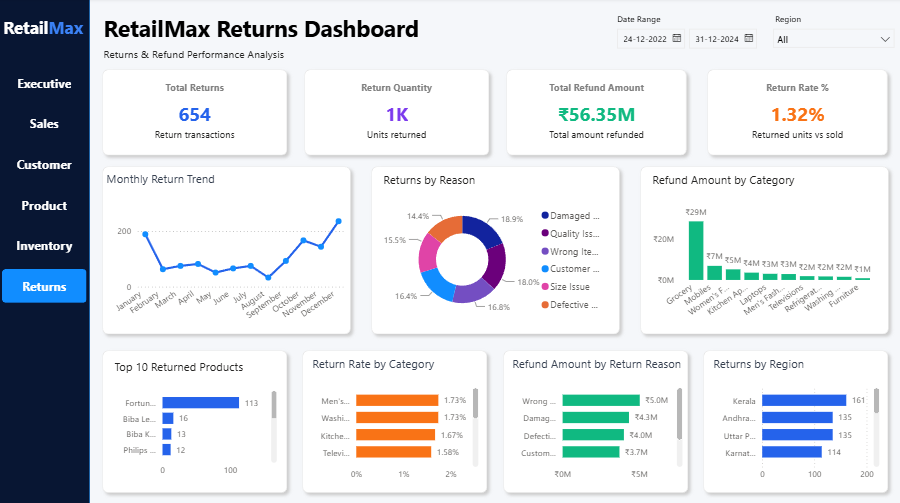

What the dashboard file says about the page in this screenshot:
{"tool":"powerbi","page":{"name":"Returns Dashboard","canvas":[1280,720],"ordinal":5},"visuals":[{"type":"shape","box":[0,0,130,720],"z":0,"group":"g7"},{"type":"shape","box":[425,92,280,140],"z":0,"group":"g1"},{"type":"shape","box":[711,92,273.4,140],"z":0,"group":"g2"},{"type":"shape","box":[997,92,273.4,140],"z":0,"group":"g3"},{"type":"textbox","box":[160,176,144,64],"z":0},{"type":"shape","box":[139,230,370,256],"z":0,"group":"g4"},{"type":"shape","box":[520.5,230,370,256],"z":0,"group":"g5"},{"type":"shape","box":[902,230,370,256],"z":0,"group":"g6"},{"type":"shape","box":[139,92,280,140],"z":1000},{"type":"cardVisual","title":"sales","fields":{"Data":["Measure.Return Quantity"]},"box":[445,127,240,70],"z":1000,"group":"g1"},{"type":"cardVisual","title":"sales","fields":{"Data":["Measure.Total Refund Amount"]},"box":[730.5,127,234.4,70],"z":1000,"group":"g2"},{"type":"cardVisual","title":"sales","fields":{"Data":["Measure.Return Rate %"]},"box":[1016.5,127,234.4,70],"z":1000,"group":"g3"},{"type":"lineChart","title":"Monthly Return Trend","fields":{"Y":["Measure.Return Quantity"],"Category":["dim_date.month_name"]},"box":[149.6,246,348.9,224],"z":1000,"group":"g4"},{"type":"textbox","box":[445,112.8,240,35],"z":2000,"group":"g1"},{"type":"textbox","box":[730.5,112.8,234.4,35],"z":2000,"group":"g2"},{"type":"textbox","box":[1016.5,112.8,234.4,35],"z":2000,"group":"g3"},{"type":"cardVisual","title":"sales","fields":{"Data":["Measure.Total Returns"]},"box":[159,127,240,70],"z":2000},{"type":"textbox","box":[445,179.5,240,35],"z":3000,"group":"g1"},{"type":"textbox","box":[730.5,179.5,234.4,35],"z":3000,"group":"g2"},{"type":"textbox","box":[1016.5,179.5,234.4,35],"z":3000,"group":"g3"},{"type":"shape","box":[423,491,280,220],"z":3000},{"type":"textbox","box":[159,112.8,240,35],"z":4000},{"type":"shape","box":[707,491,280,220],"z":5000},{"type":"textbox","box":[159,179.5,240,35],"z":6000},{"type":"shape","box":[991,491,280,220],"z":7000},{"type":"textbox","box":[144,16,544,64],"z":8000},{"type":"barChart","title":"Return Rate by Category","fields":{"Y":["Measure.Return Rate %"],"Category":["dim_category.category_name"]},"box":[440.5,507.9,245,186.2],"z":9000},{"type":"barChart","title":"Refund Amount by Return Reason","fields":{"Y":["Measure.Total Refund Amount"],"Category":["fact_returns.return_reason"]},"box":[724.9,507.9,250.9,186.2],"z":10000},{"type":"clusteredBarChart","title":"Returns by Region","fields":{"Category":["dim_region.region_name"],"Y":["Measure.Return Quantity"]},"box":[1008.5,507.9,245,186.2],"z":11000},{"type":"textbox","box":[144,64,288,80],"z":12000},{"type":"slicer","fields":{"Values":["dim_date.full_date"]},"box":[864,15,224,96],"z":13000},{"type":"slicer","fields":{"Values":["dim_region.region_name"]},"box":[1088,15,192,80],"z":14000},{"type":"group","id":"g1","title":"Group 2","box":[425,92,280,140],"z":15000},{"type":"group","id":"g2","title":"Group 2","box":[711,92,280,144],"z":16000},{"type":"group","id":"g3","title":"Group 2","box":[997,92,280,144],"z":17000},{"type":"actionButton","box":[5,96,120,48],"z":18000,"group":"g7"},{"type":"group","id":"g4","title":"Group 1","box":[139,230,370,256],"z":18000},{"type":"textbox","box":[0,20,128,48],"z":19000,"group":"g7"},{"type":"group","id":"g5","title":"Group 3","box":[520.5,230,370,256],"z":19000},{"type":"actionButton","box":[5,153.6,120,48],"z":20000,"group":"g7"},{"type":"group","id":"g6","title":"Group 4","box":[902,230,370,256],"z":20000},{"type":"group","id":"g7","title":"Group 2","box":[0,0,130,720],"z":21000},{"type":"actionButton","box":[5,211.2,120,48],"z":21000,"group":"g7"},{"type":"donutChart","title":"Returns by Reason","fields":{"Category":["fact_returns.return_reason"],"Y":["Measure.Return Quantity"]},"box":[542,247,329,216],"z":22000},{"type":"actionButton","box":[5,268.8,120,48],"z":22000,"group":"g7"},{"type":"columnChart","title":"Refund Amount by Category","fields":{"Category":["dim_category.category_name"],"Y":["Measure.Total Refund Amount"]},"box":[923,247,329,216],"z":23000},{"type":"actionButton","box":[5,326.4,120,48],"z":23000,"group":"g7"},{"type":"actionButton","box":[5,384,120,48],"z":24000,"group":"g7"},{"type":"shape","box":[139,491,280,220],"z":24000},{"type":"barChart","title":"Top 10 Returned Products","fields":{"Category":["dim_product.product_name"],"Y":["Measure.Return Quantity"]},"box":[160,512,240,176],"z":25000}]}

Visuals, with their boxes on the page's 1280x720 design canvas (x1, y1, x2, y2). These are canvas units, not pixel positions in the 900x503 screenshot, which may show the page scaled, cropped or inside an application window:
shape: <bbox>0, 0, 130, 720</bbox>
shape: <bbox>425, 92, 705, 232</bbox>
shape: <bbox>711, 92, 984, 232</bbox>
shape: <bbox>997, 92, 1270, 232</bbox>
textbox: <bbox>160, 176, 304, 240</bbox>
shape: <bbox>139, 230, 509, 486</bbox>
shape: <bbox>520, 230, 890, 486</bbox>
shape: <bbox>902, 230, 1272, 486</bbox>
shape: <bbox>139, 92, 419, 232</bbox>
"sales" cardVisual: <bbox>445, 127, 685, 197</bbox>
"sales" cardVisual: <bbox>730, 127, 965, 197</bbox>
"sales" cardVisual: <bbox>1016, 127, 1251, 197</bbox>
"Monthly Return Trend" lineChart: <bbox>150, 246, 498, 470</bbox>
textbox: <bbox>445, 113, 685, 148</bbox>
textbox: <bbox>730, 113, 965, 148</bbox>
textbox: <bbox>1016, 113, 1251, 148</bbox>
"sales" cardVisual: <bbox>159, 127, 399, 197</bbox>
textbox: <bbox>445, 180, 685, 214</bbox>
textbox: <bbox>730, 180, 965, 214</bbox>
textbox: <bbox>1016, 180, 1251, 214</bbox>
shape: <bbox>423, 491, 703, 711</bbox>
textbox: <bbox>159, 113, 399, 148</bbox>
shape: <bbox>707, 491, 987, 711</bbox>
textbox: <bbox>159, 180, 399, 214</bbox>
shape: <bbox>991, 491, 1271, 711</bbox>
textbox: <bbox>144, 16, 688, 80</bbox>
"Return Rate by Category" barChart: <bbox>440, 508, 686, 694</bbox>
"Refund Amount by Return Reason" barChart: <bbox>725, 508, 976, 694</bbox>
"Returns by Region" clusteredBarChart: <bbox>1008, 508, 1254, 694</bbox>
textbox: <bbox>144, 64, 432, 144</bbox>
slicer - dim_date.full_date: <bbox>864, 15, 1088, 111</bbox>
slicer - dim_region.region_name: <bbox>1088, 15, 1280, 95</bbox>
"Group 2" group: <bbox>425, 92, 705, 232</bbox>
"Group 2" group: <bbox>711, 92, 991, 236</bbox>
"Group 2" group: <bbox>997, 92, 1277, 236</bbox>
actionButton: <bbox>5, 96, 125, 144</bbox>
"Group 1" group: <bbox>139, 230, 509, 486</bbox>
textbox: <bbox>0, 20, 128, 68</bbox>
"Group 3" group: <bbox>520, 230, 890, 486</bbox>
actionButton: <bbox>5, 154, 125, 202</bbox>
"Group 4" group: <bbox>902, 230, 1272, 486</bbox>
"Group 2" group: <bbox>0, 0, 130, 720</bbox>
actionButton: <bbox>5, 211, 125, 259</bbox>
"Returns by Reason" donutChart: <bbox>542, 247, 871, 463</bbox>
actionButton: <bbox>5, 269, 125, 317</bbox>
"Refund Amount by Category" columnChart: <bbox>923, 247, 1252, 463</bbox>
actionButton: <bbox>5, 326, 125, 374</bbox>
actionButton: <bbox>5, 384, 125, 432</bbox>
shape: <bbox>139, 491, 419, 711</bbox>
"Top 10 Returned Products" barChart: <bbox>160, 512, 400, 688</bbox>
